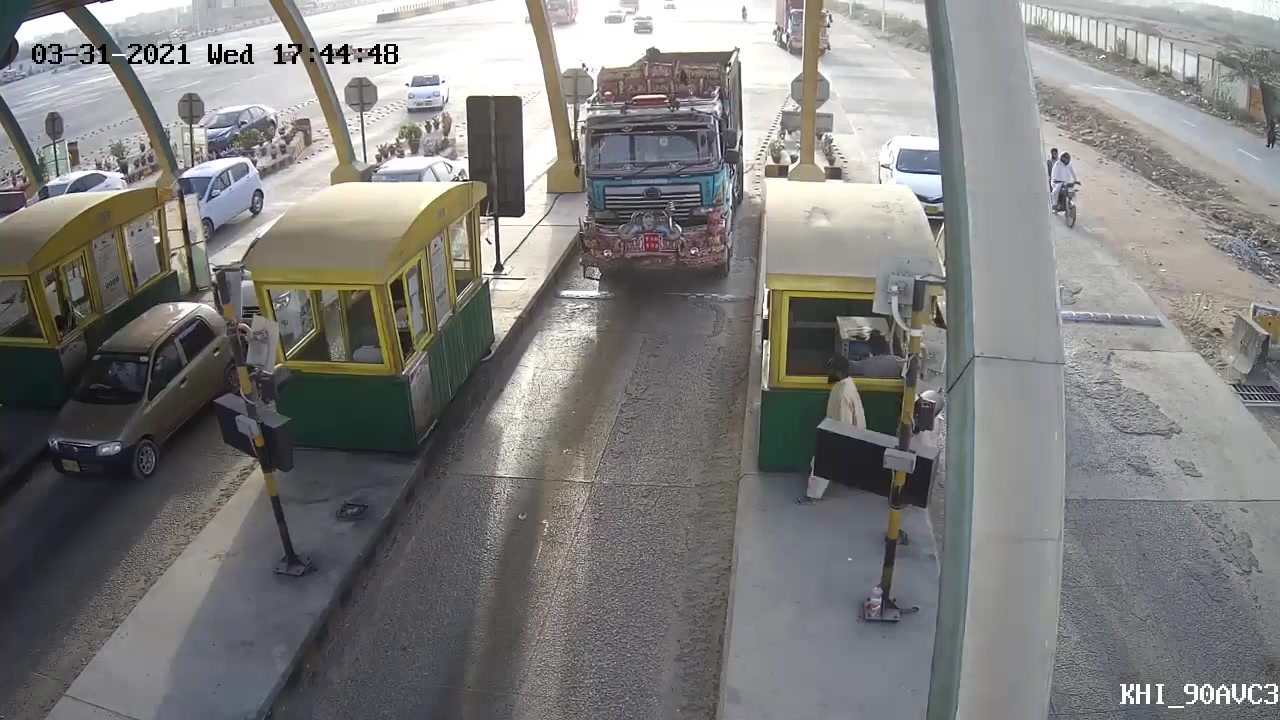F5: (574, 44, 757, 293)
